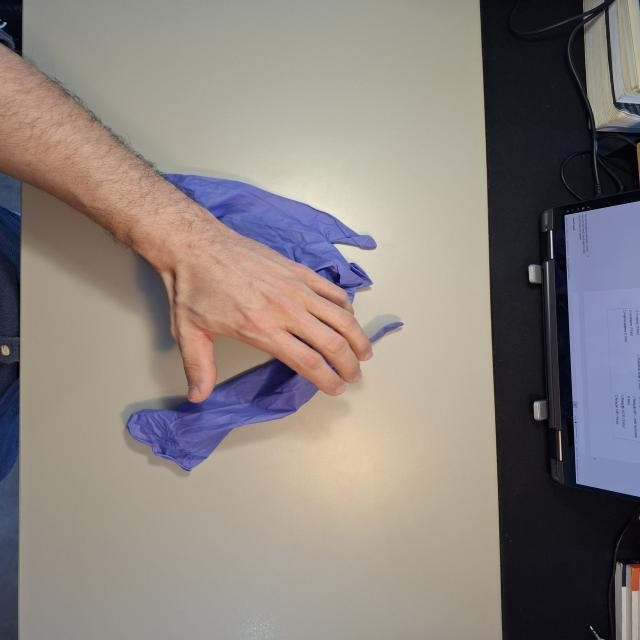glove_off: (156, 229, 377, 405)
